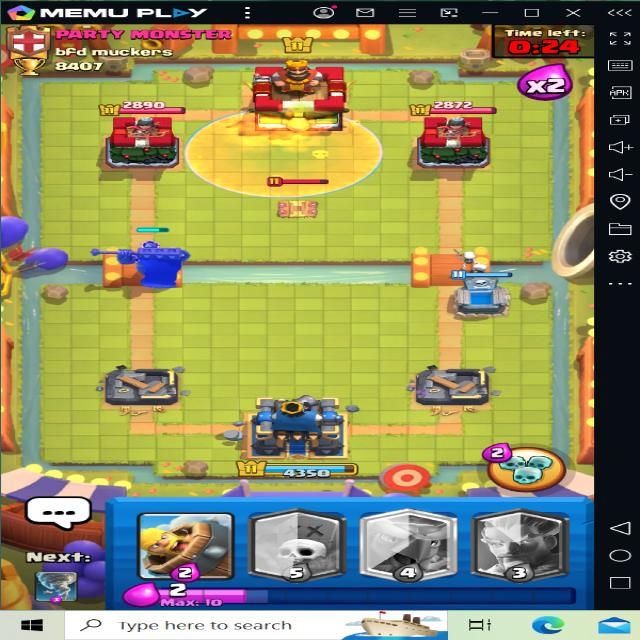tesla-closed: (262, 170, 334, 224)
